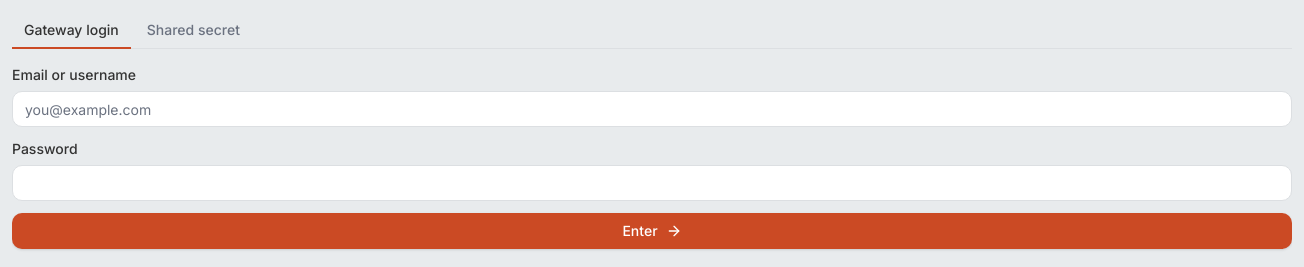
switches to the shared-secret form when its tab is clicked
Click the tab "Shared secret". click: click(193, 30)
box: [135, 12, 252, 48]
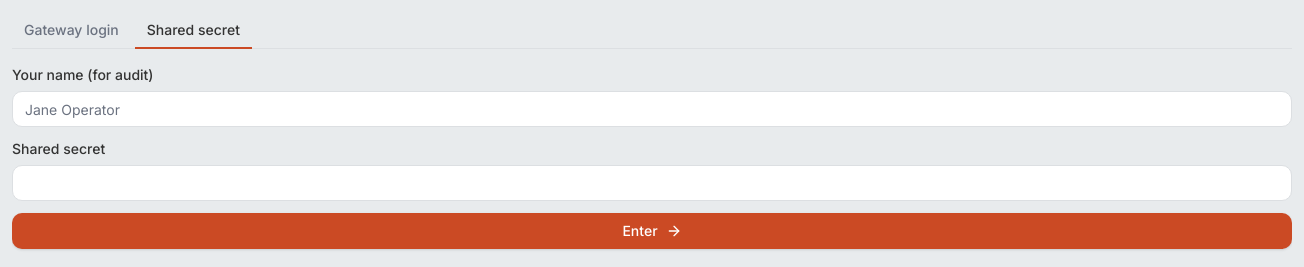
Expected: the password field labelled "Shared secret" is shown, [12, 165, 1292, 201]
Expected: the label labelled "Email or username" is gone
